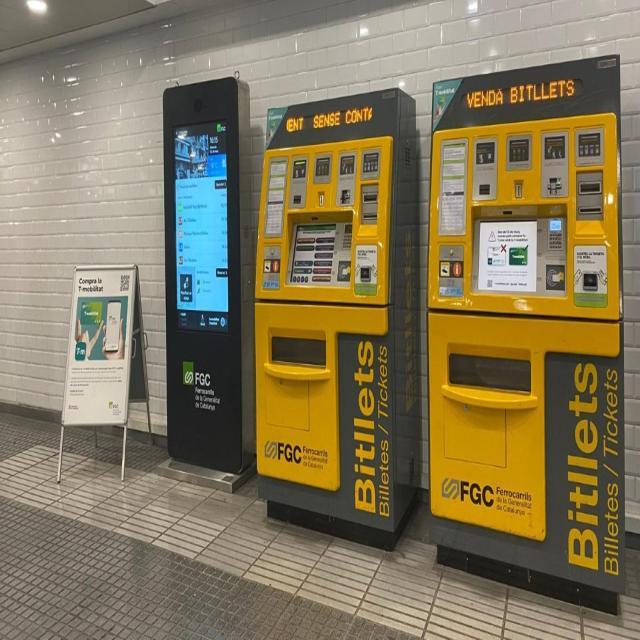tickets-maquina: (428, 56, 625, 613), (255, 89, 420, 548)
